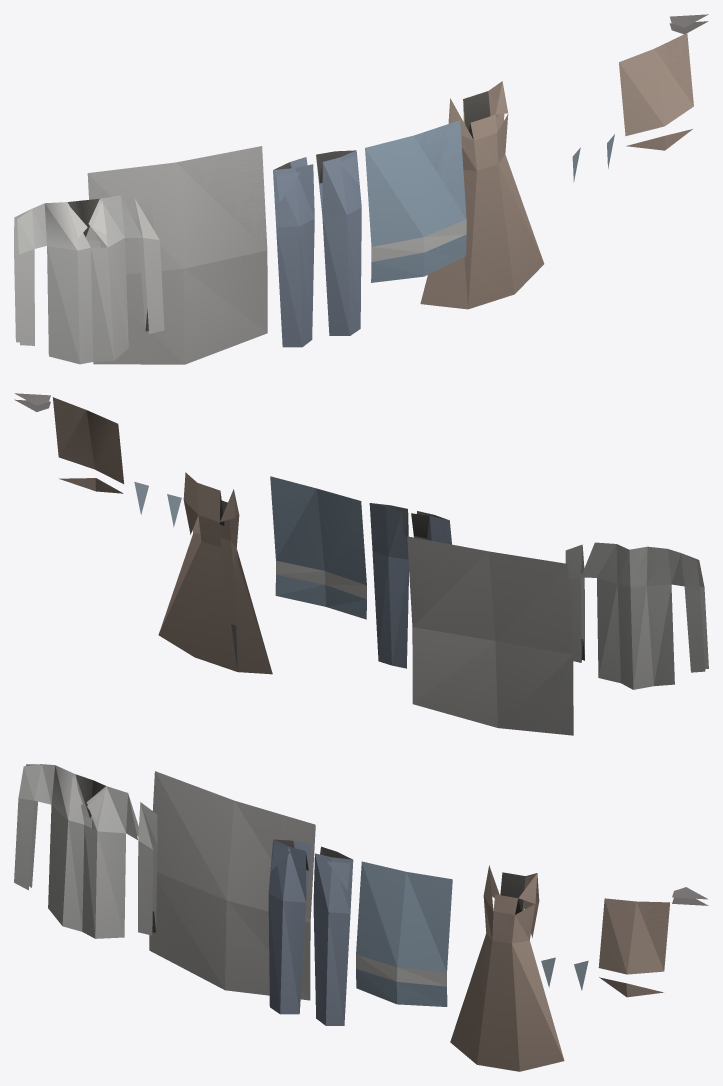
File: laundry.lod.glb
The picture shows the model from 3 angles, top to bottom: view 1: azimuth 30°, elevation 25°; view 2: azimuth 150°, elevation 25°; view 3: azimuth 330°, elevation 25°; orthographic projection. The views are drawn at different scales.
Parts seen in each view (by area): view 1: laundry; view 2: laundry; view 3: laundry.
Boxes of the visible parts, bbox=[...] form: laundry: bbox=[14, 14, 708, 364]; laundry: bbox=[14, 393, 708, 735]; laundry: bbox=[14, 764, 708, 1071].
Size of the model in its own units: 3.72 by 1.16 by 0.4085.
